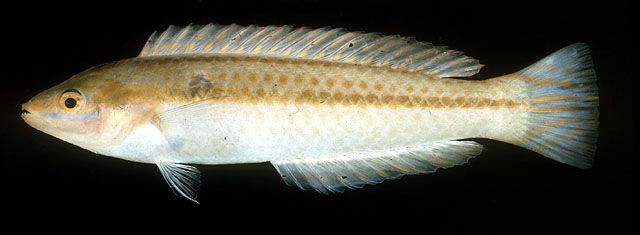fish: (19, 23, 601, 205)
